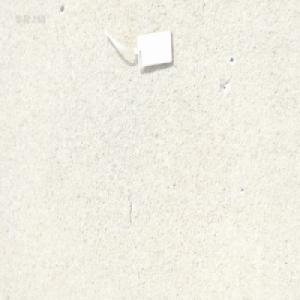LuggageTag: (101, 26, 174, 73)
